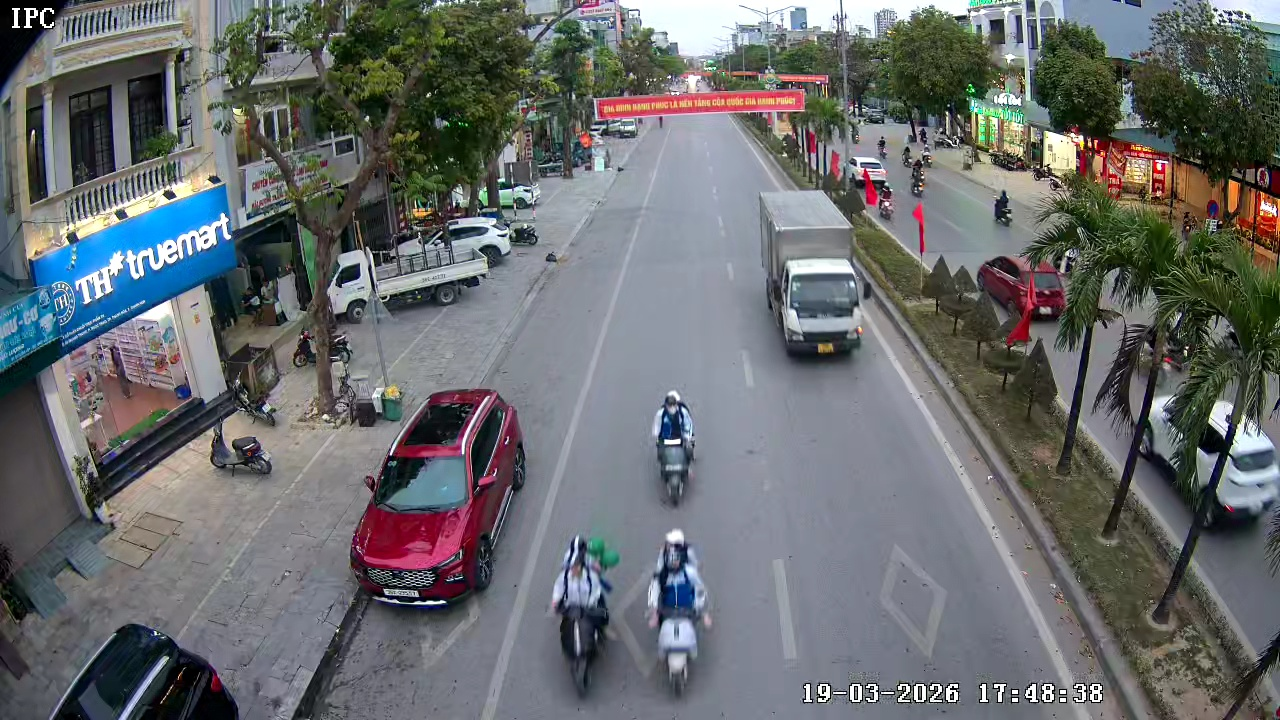car: (348, 387, 529, 606), (1199, 417, 1279, 530)
motorbike: (547, 531, 621, 699), (643, 528, 716, 698), (648, 389, 699, 508), (208, 407, 275, 478)
truck: (759, 188, 865, 359)
